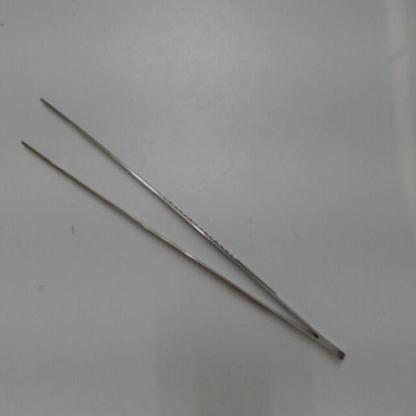DeBakey Dissector: (11, 84, 356, 375)
